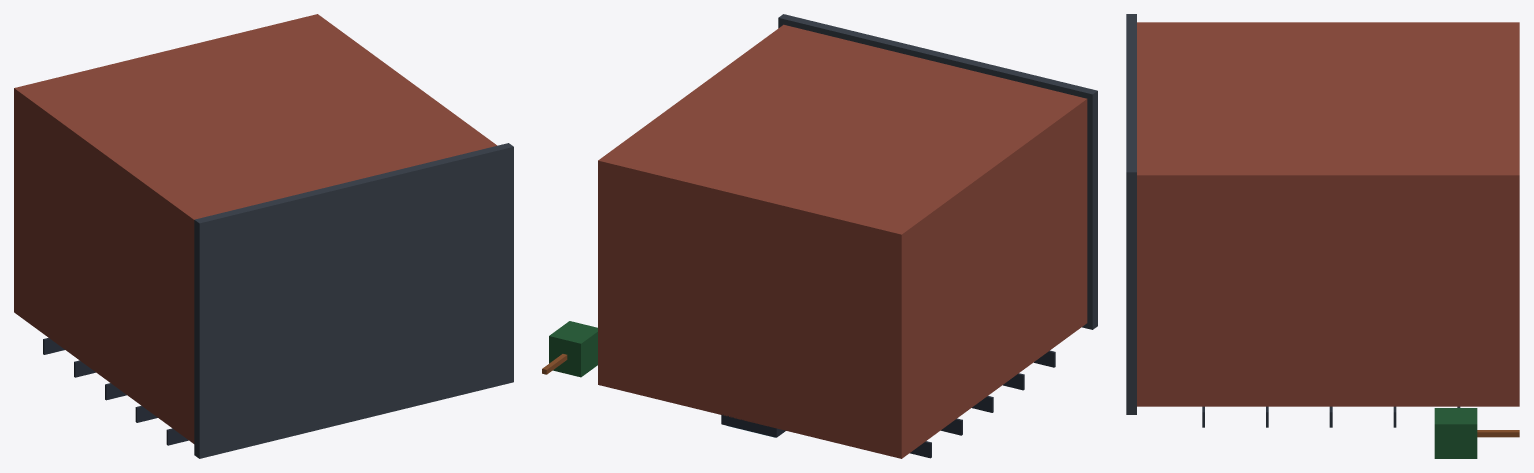
The model's file is studentenflat.obj.
The picture shows the model from 3 angles, left to right: view 1: azimuth 30°, elevation 25°; view 2: azimuth 150°, elevation 25°; view 3: azimuth 270°, elevation 25°; orthographic projection. The views are drawn at different scales.
Visible parts, largest first — view 1: studentenflat; view 2: studentenflat; view 3: studentenflat.
Boxes of the visible parts, x1,y1,x2,y2 form: studentenflat: (14,14,513,458); studentenflat: (542,14,1097,458); studentenflat: (1126,14,1519,458).
Bounding box in the file's own units: 21.2 × 13.4 × 18.5.
